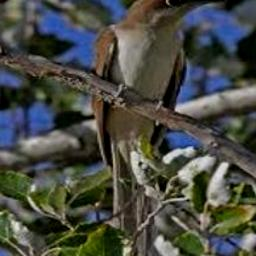Cuckoo: (91, 0, 224, 256)
